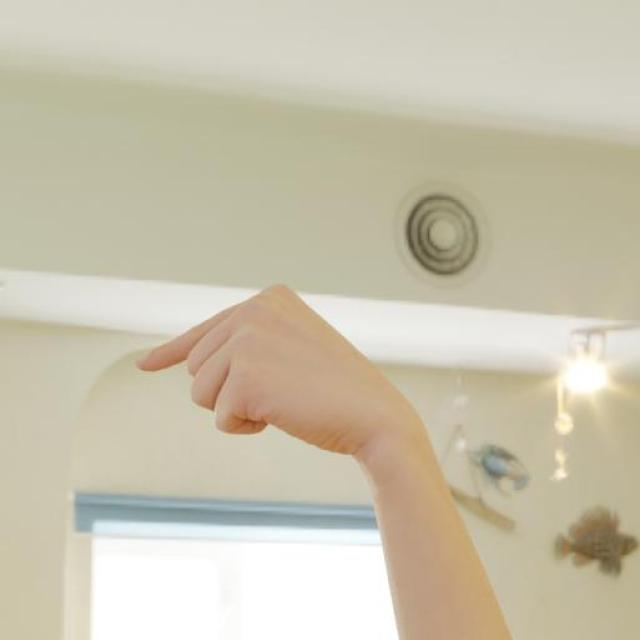G: (129, 276, 435, 466)
